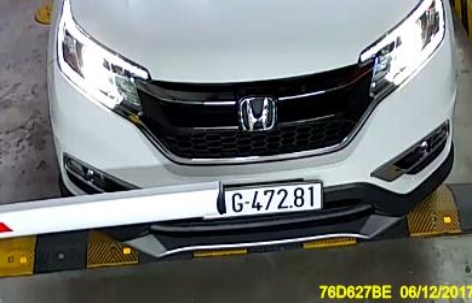plate: (225, 184, 333, 219)
